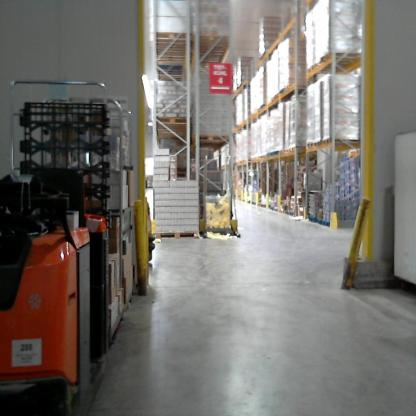pallet: (151, 113, 195, 136), (151, 29, 193, 51), (316, 49, 369, 65), (149, 229, 201, 245), (190, 131, 237, 146), (323, 135, 365, 148), (191, 34, 231, 47), (303, 138, 316, 150), (313, 137, 323, 150), (306, 213, 316, 224), (323, 220, 334, 229), (315, 217, 323, 226)
pallet_truck: (2, 78, 145, 413)
